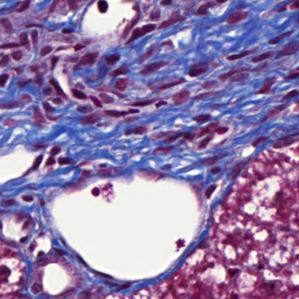inflammation: (191, 107, 232, 156), (30, 142, 77, 177)
